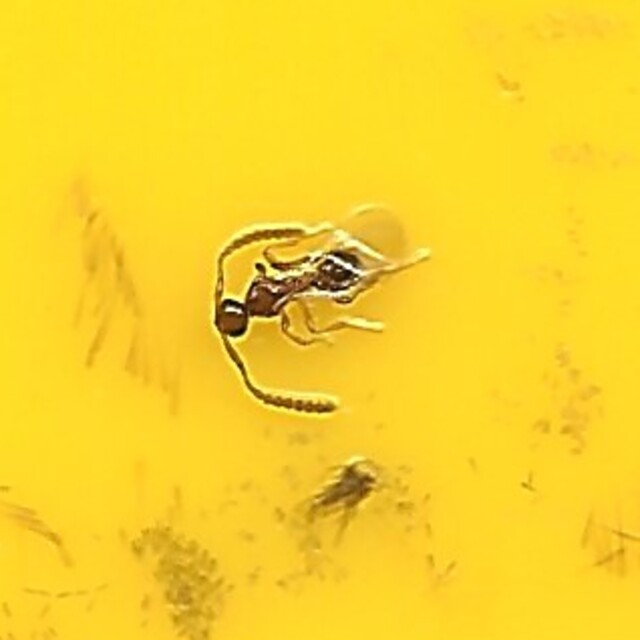Hymenoptera: (201, 211, 439, 429)
